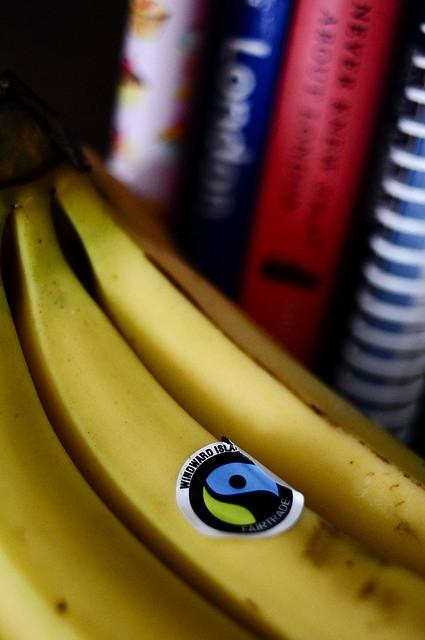banana: (11, 165, 425, 640), (54, 166, 422, 571), (1, 276, 257, 640)
